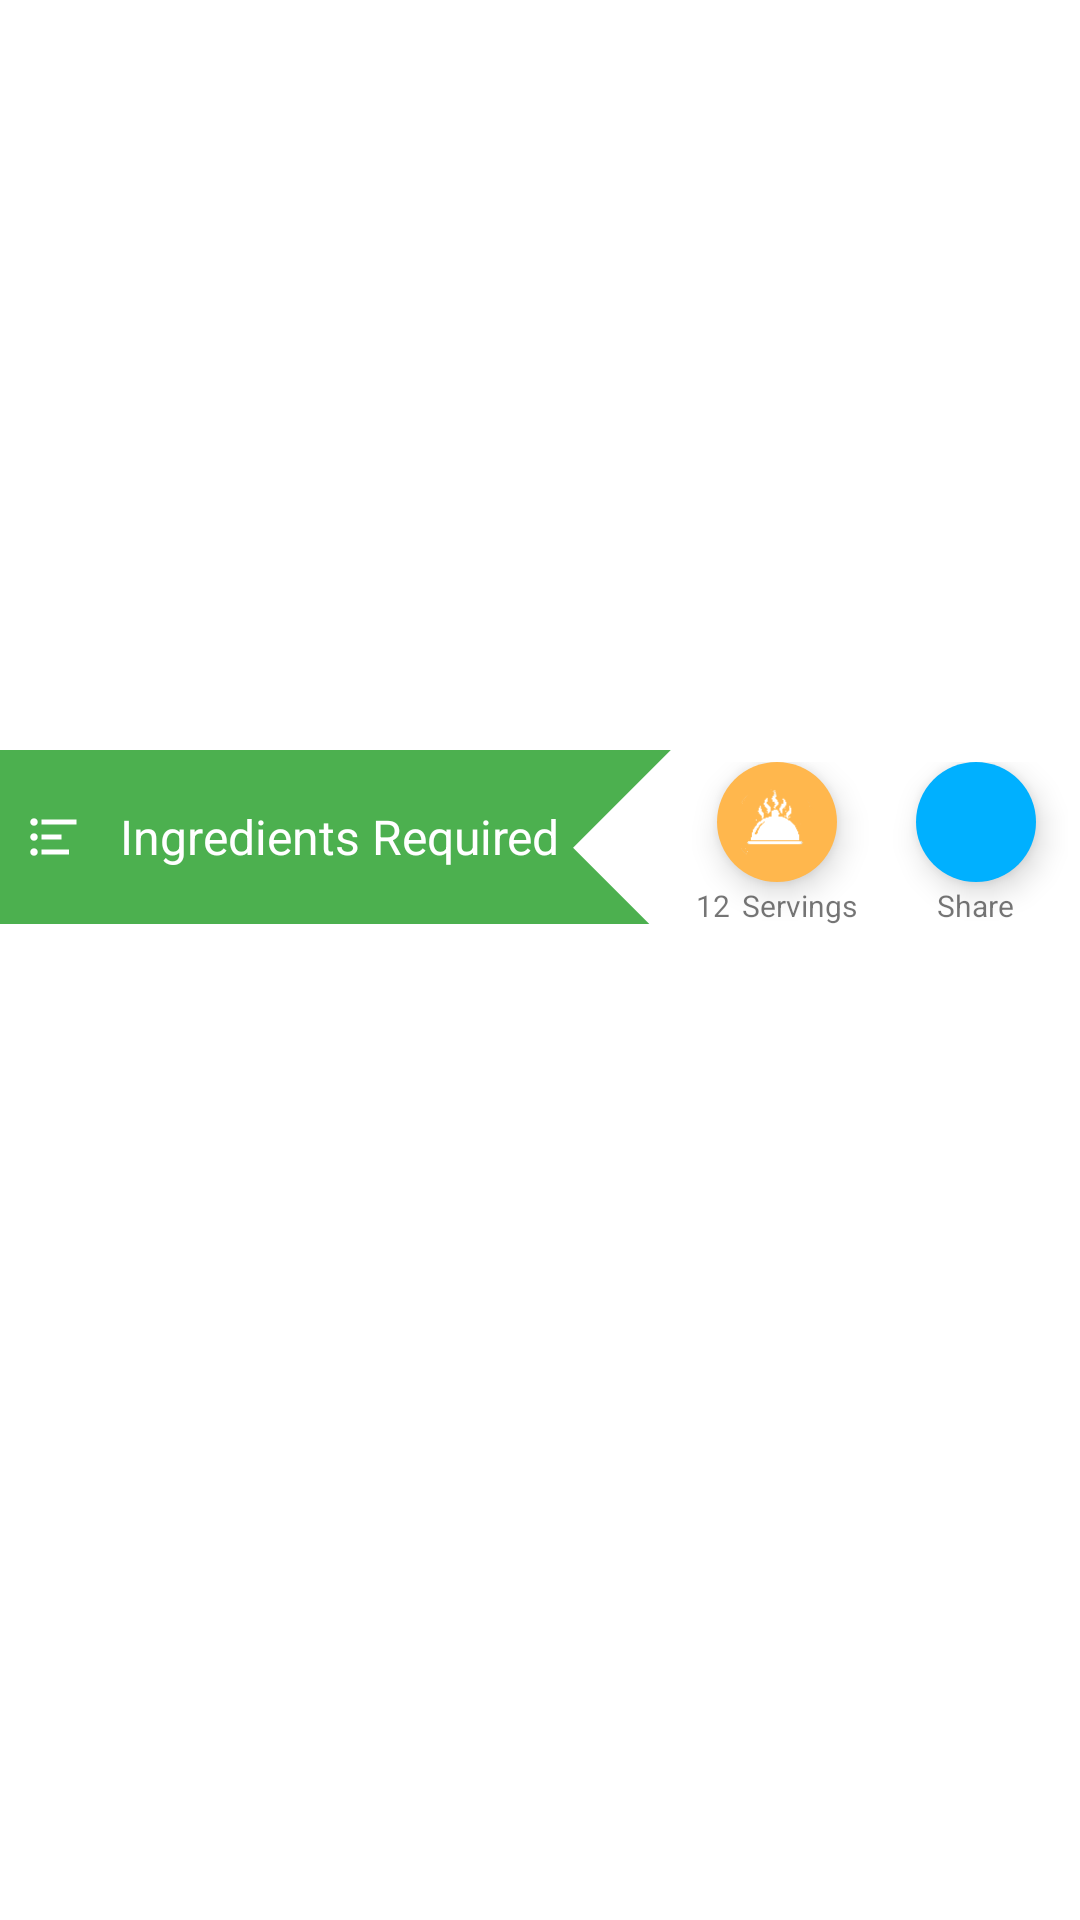

Where to tap for icons on this 1080px x 1920px app screen, as (x,y):
format list bulleted: (53,837)
